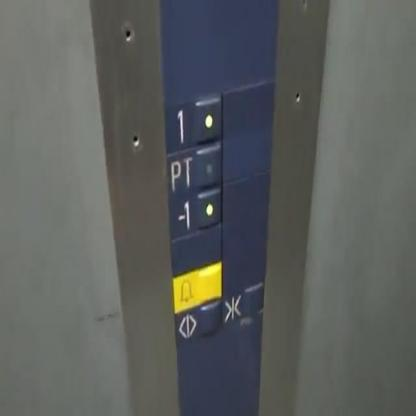-1: (168, 181, 224, 243)
1: (161, 93, 224, 153)
PT: (165, 136, 224, 201)
alarm: (170, 258, 224, 316)
close: (221, 276, 266, 330)
open: (173, 293, 223, 351)
